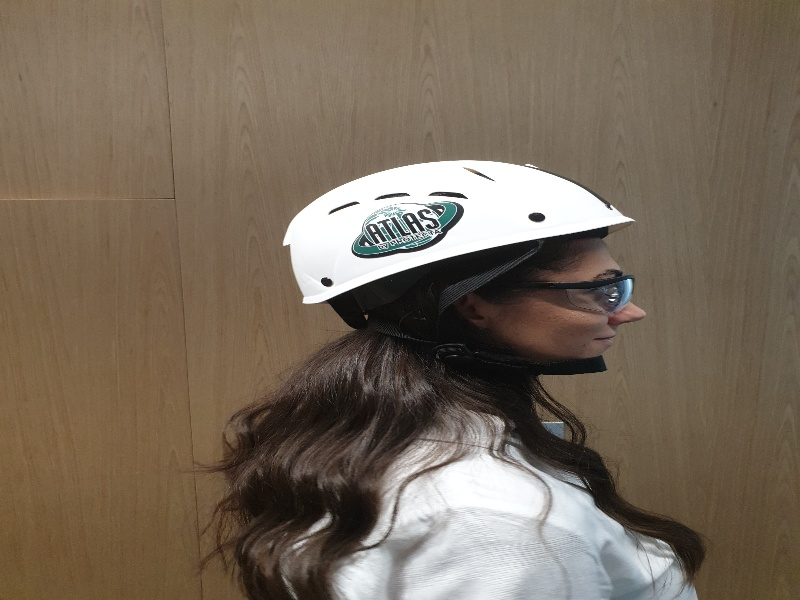Baret: (281, 159, 642, 287)
Gozluk: (490, 273, 636, 314)
